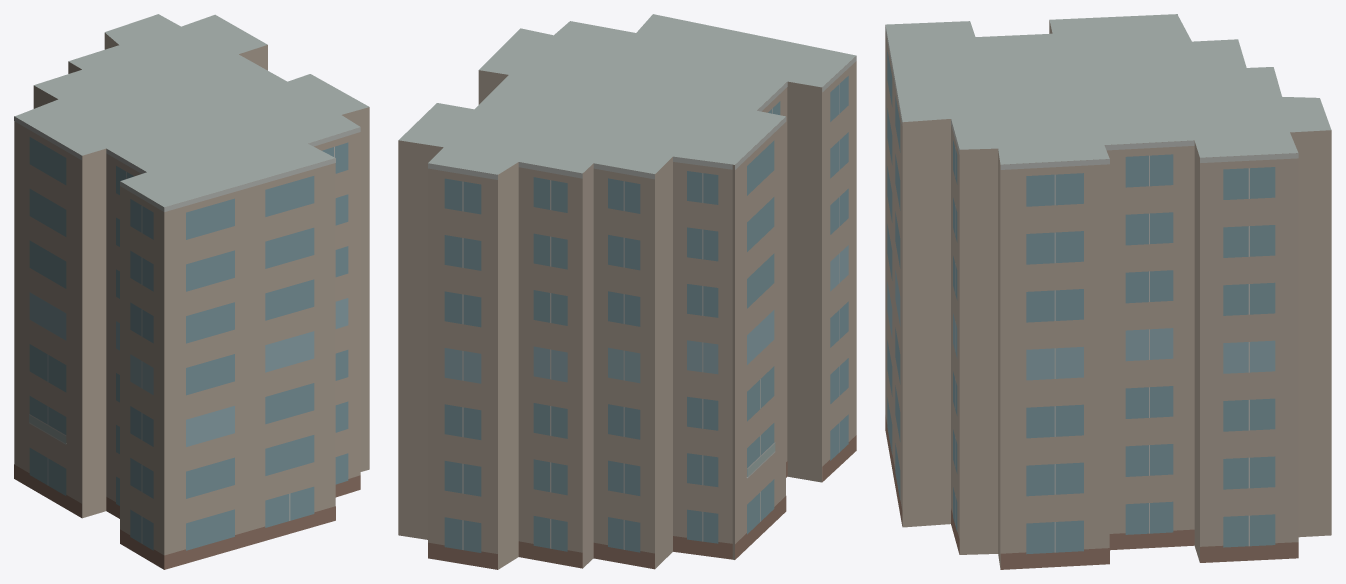
Rendered from survey-upis-33024151.glb.
The picture shows the model from 3 angles, left to right: view 1: azimuth 30°, elevation 25°; view 2: azimuth 150°, elevation 25°; view 3: azimuth 270°, elevation 25°; orthographic projection. The views are drawn at different scales.
Visible parts, largest first — view 1: survey-upis-33024151.tmp; view 2: survey-upis-33024151.tmp; view 3: survey-upis-33024151.tmp.
Boxes of the visible parts, box(x1,y1,x2,y2) form: survey-upis-33024151.tmp: box(14, 14, 369, 569); survey-upis-33024151.tmp: box(398, 14, 856, 569); survey-upis-33024151.tmp: box(885, 14, 1331, 569).
Size of the model in its own units: 14.52 by 18.2 by 18.17.
